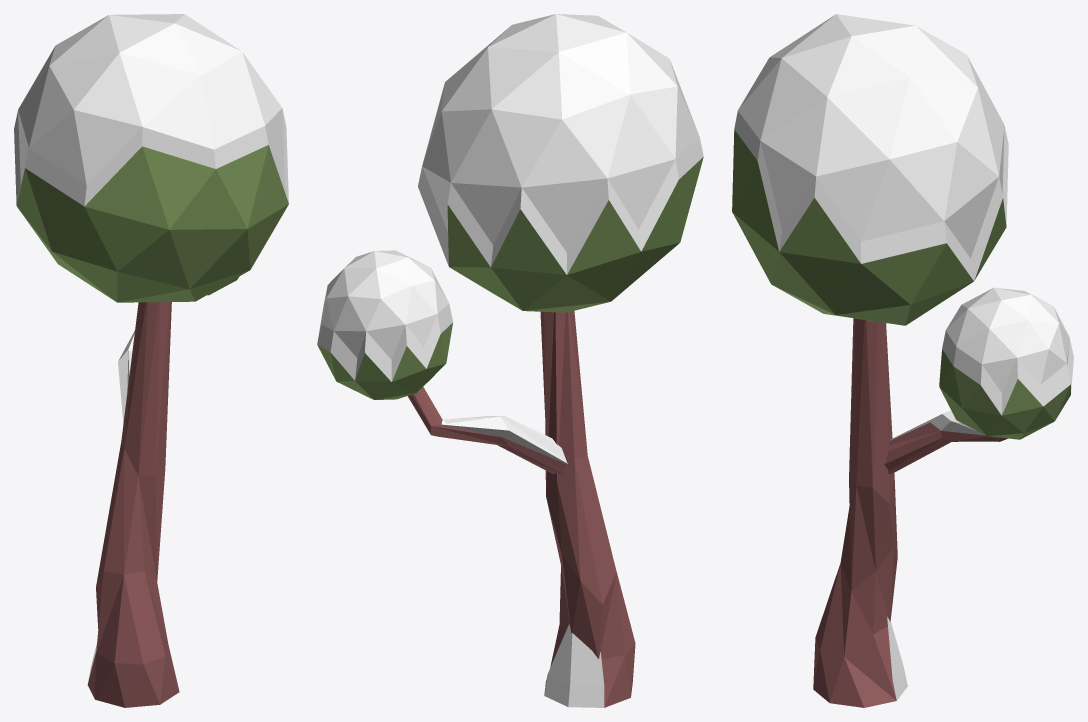
Rendered from Poplar Tree_2 Snow.fbx.
3 views of the same model, side by side, from view 1: azimuth 30°, elevation 25°; view 2: azimuth 150°, elevation 25°; view 3: azimuth 270°, elevation 25° (orthographic).
Visible parts, largest first — view 1: Poplar Tree_2 Snow; view 2: Poplar Tree_2 Snow; view 3: Poplar Tree_2 Snow.
Boxes of the visible parts, x1,y1,x2,y2 form: Poplar Tree_2 Snow: (14, 14, 288, 707); Poplar Tree_2 Snow: (317, 14, 703, 707); Poplar Tree_2 Snow: (732, 14, 1073, 707).
Size of the model in its own units: 2.03 by 4.45 by 2.06.
